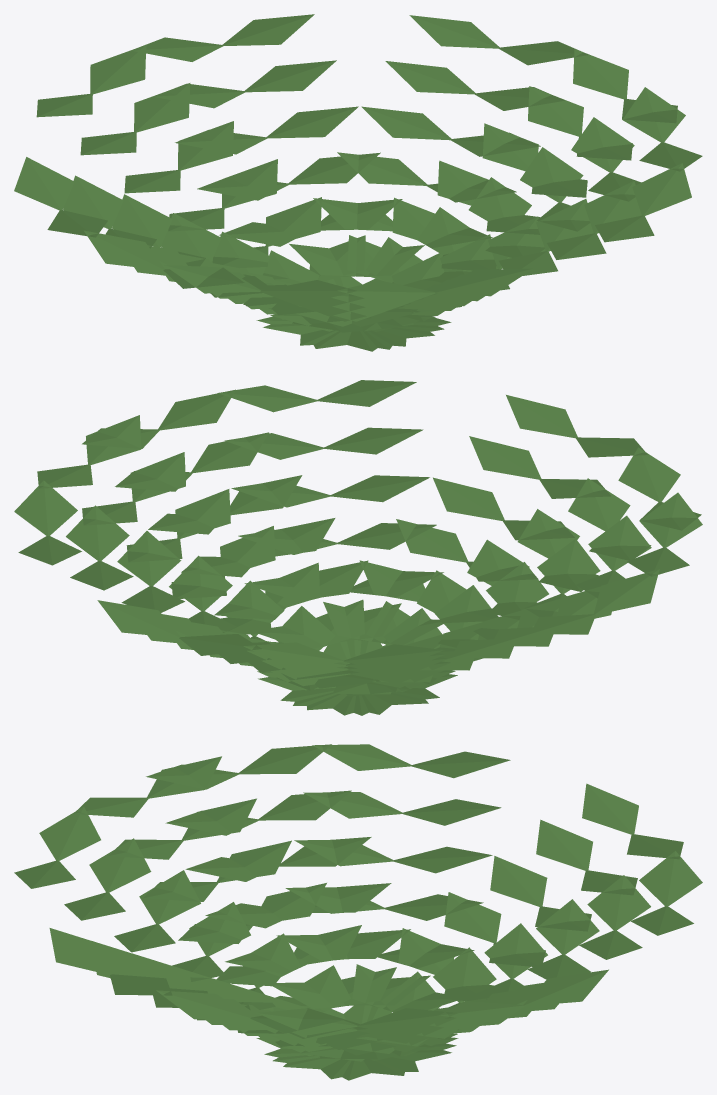
The model's file is vegetation-fern.lod1.glb.
The picture shows the model from 3 angles, top to bottom: view 1: azimuth 30°, elevation 25°; view 2: azimuth 150°, elevation 25°; view 3: azimuth 270°, elevation 25°; orthographic projection.
Parts seen in each view (by area): view 1: vegetation-fern__body; view 2: vegetation-fern__body; view 3: vegetation-fern__body.
Boxes of the visible parts, x1=… form: vegetation-fern__body: x1=14, y1=14, x2=702, y2=351; vegetation-fern__body: x1=14, y1=380, x2=702, y2=715; vegetation-fern__body: x1=14, y1=744, x2=702, y2=1080.
Bounding box in the file's own units: 1.5 × 0.4069 × 1.5.
